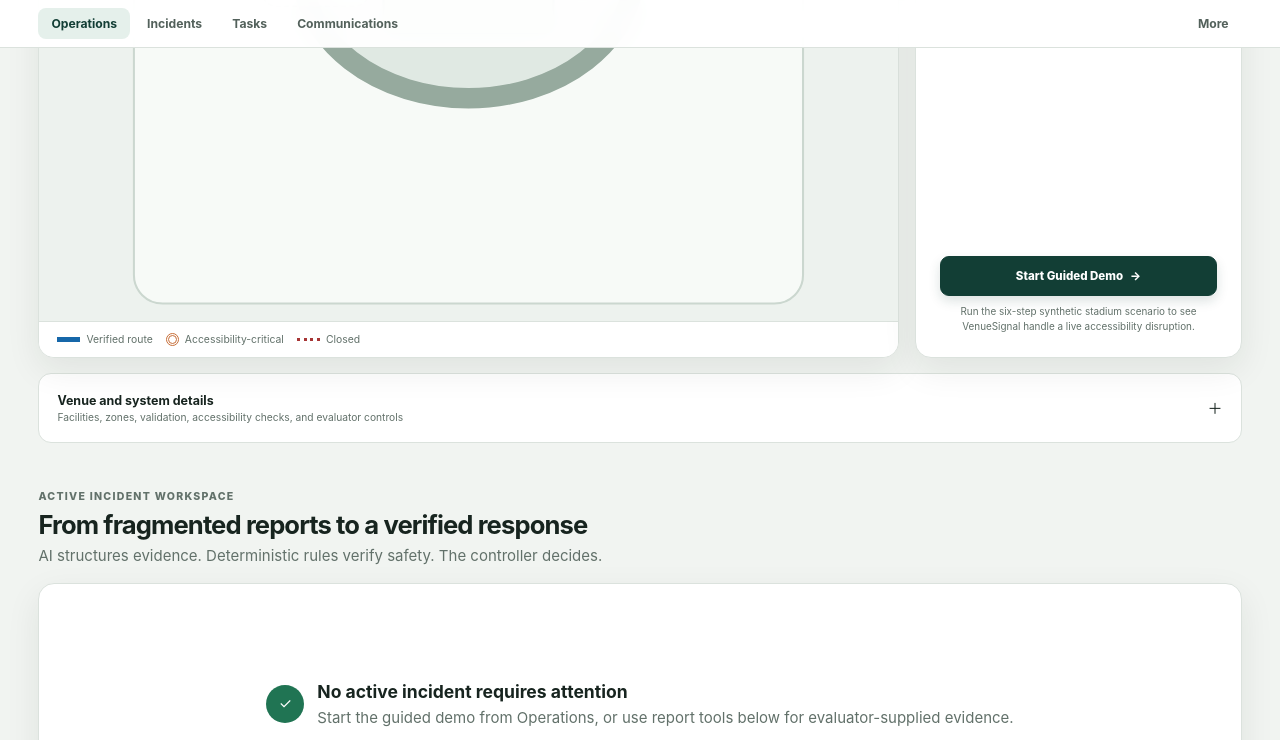
it: VenueSignal frontend experience › filters facilities and supports keyboard activation on the map
(page scrolled)
Click the text "Venue and system details" at (136,400), box [57,393,214,408]
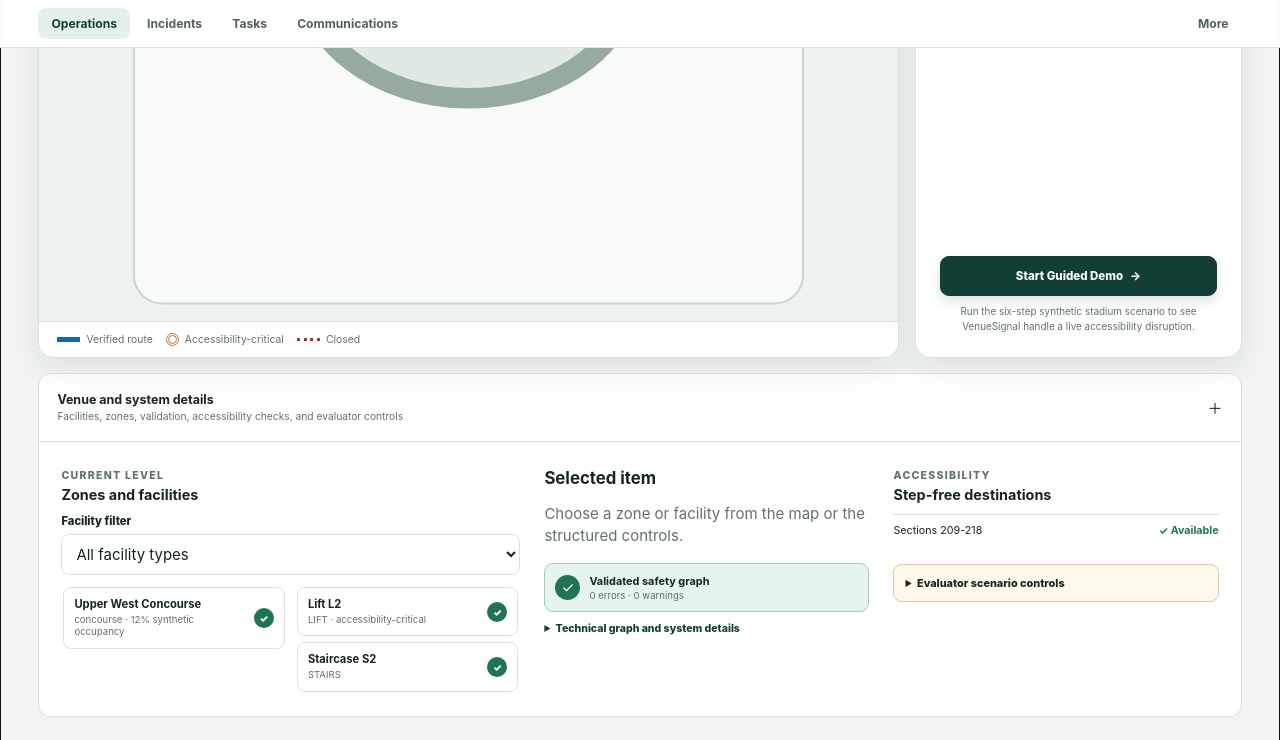
Select "STAIRS" in the dropdown labelled "Facility filter" at (291,554), box [61,534,520,575]
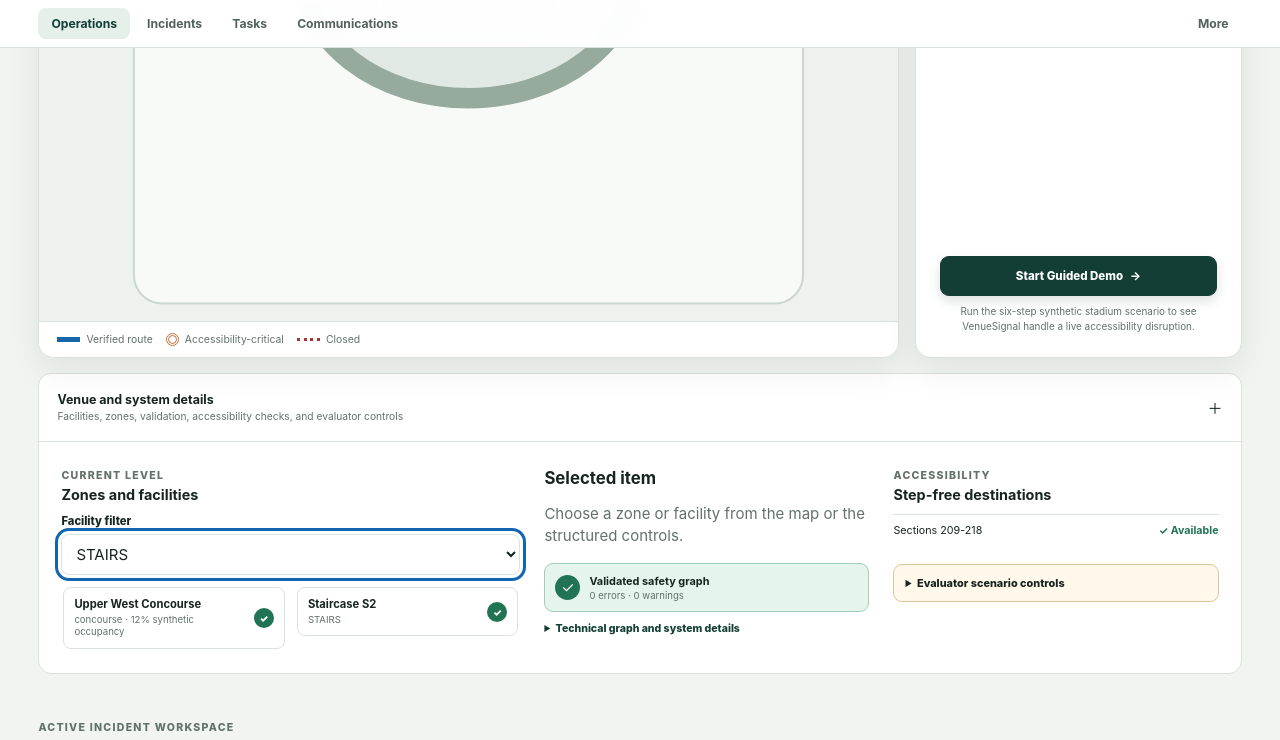
Expected: the icon "Lift L2" is not shown
Now the button "Staircase S2 STAIRS ✓" is shown, box [297,587,518,636]
Select "All facility types" in the dropdown labelled "Facility filter" at (291,554), box [61,534,520,575]
(page scrolled)
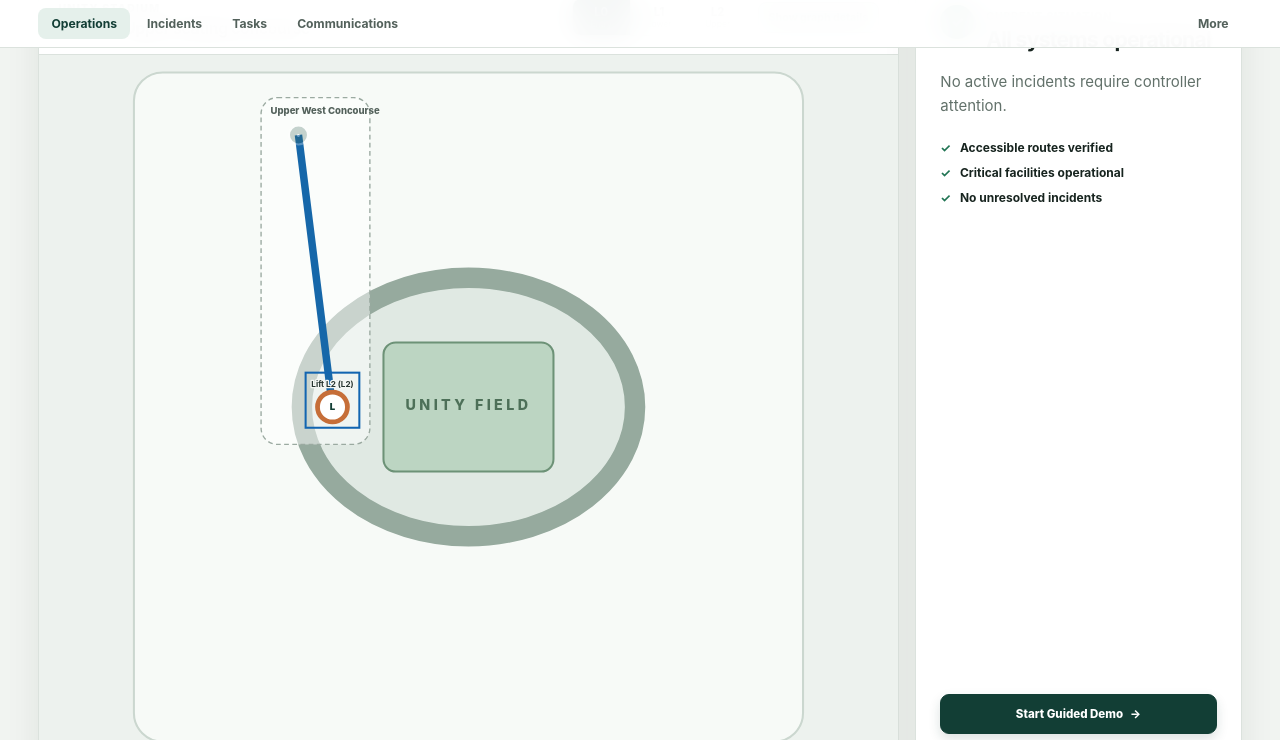
Press Enter
(page scrolled)
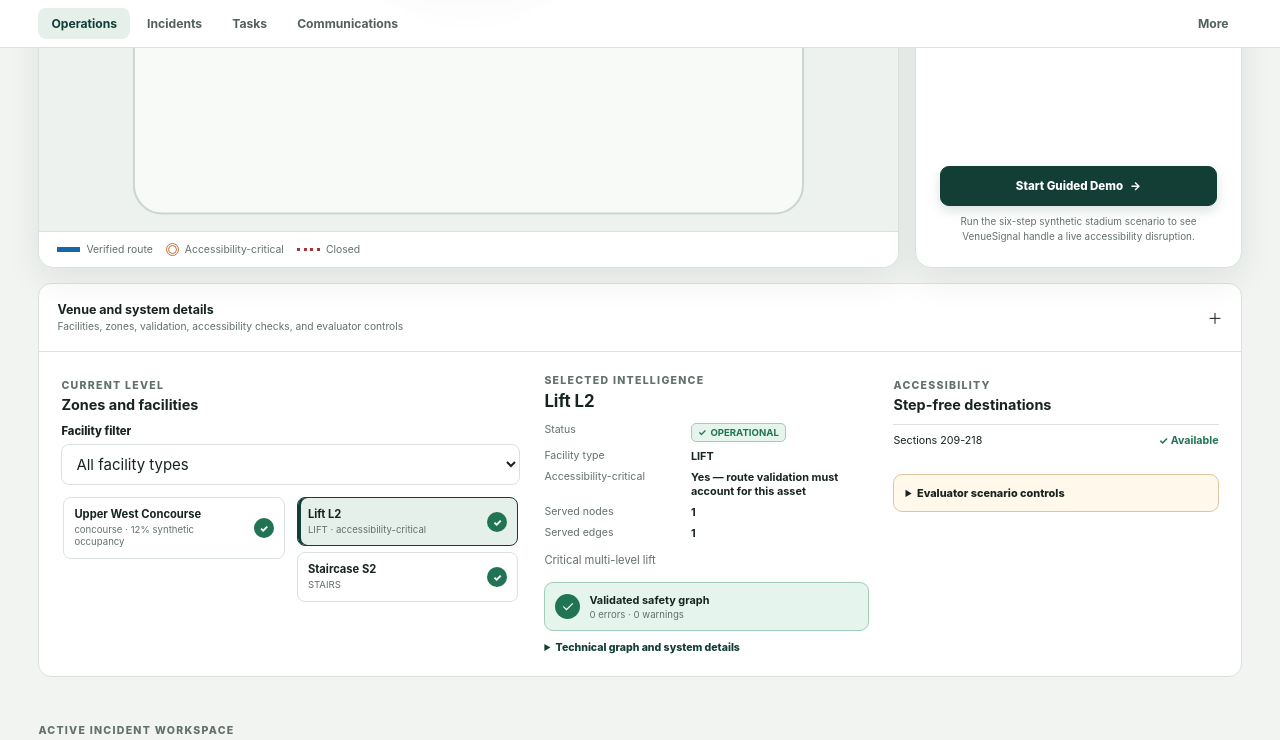
Now the heading "Lift L2" is shown, box [544,391,595,411]
